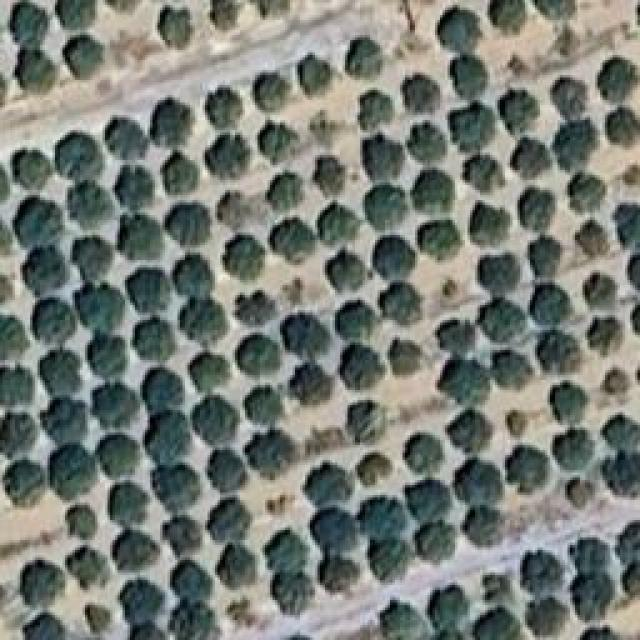Tree: (50, 443, 98, 501), (208, 540, 264, 589), (553, 120, 604, 172), (145, 410, 193, 465), (13, 198, 63, 250), (75, 282, 126, 332), (245, 430, 296, 480), (153, 462, 203, 512), (438, 360, 491, 407), (55, 134, 104, 184), (447, 103, 495, 154), (570, 570, 617, 622), (40, 397, 88, 447), (453, 458, 503, 506), (120, 580, 169, 628), (180, 298, 228, 346), (193, 395, 239, 445), (23, 245, 68, 296), (92, 383, 140, 430), (265, 523, 312, 571), (68, 180, 114, 228), (478, 297, 527, 342), (340, 343, 386, 390), (20, 560, 65, 608), (280, 315, 328, 360), (405, 480, 453, 525), (368, 534, 413, 582), (305, 463, 355, 506), (455, 508, 508, 548), (270, 218, 316, 264), (312, 505, 358, 551), (438, 8, 483, 55), (505, 445, 549, 493), (448, 410, 494, 455), (40, 350, 83, 398), (150, 98, 193, 146), (358, 498, 407, 540), (205, 135, 250, 180), (120, 215, 164, 261), (365, 185, 409, 231), (373, 235, 417, 281), (35, 298, 78, 345), (223, 235, 266, 282), (205, 495, 252, 538), (380, 600, 430, 640), (128, 267, 172, 312), (133, 317, 177, 362), (165, 203, 210, 247), (270, 570, 314, 615), (538, 330, 582, 375), (15, 48, 58, 94), (5, 460, 48, 506), (143, 368, 186, 414), (523, 553, 566, 599), (363, 135, 404, 183), (98, 435, 141, 480), (65, 545, 110, 588), (235, 335, 280, 378), (113, 530, 159, 572), (428, 585, 469, 632), (290, 363, 334, 406), (73, 238, 114, 284), (318, 203, 361, 246), (418, 220, 462, 262), (498, 90, 539, 135), (598, 58, 638, 104), (602, 450, 640, 498), (105, 118, 148, 160), (380, 283, 423, 325), (108, 484, 149, 528), (63, 35, 103, 80), (450, 55, 489, 101), (173, 255, 214, 298), (415, 520, 456, 563), (413, 170, 454, 213), (470, 203, 511, 246), (530, 283, 571, 326), (115, 166, 155, 210), (525, 598, 569, 638), (258, 123, 299, 165), (510, 138, 551, 180), (208, 450, 248, 493), (325, 250, 365, 293), (318, 552, 361, 592), (88, 334, 127, 378), (477, 253, 524, 289), (553, 430, 594, 471), (175, 600, 217, 640), (348, 400, 387, 443), (0, 414, 38, 458), (190, 354, 231, 394), (163, 515, 203, 556), (335, 300, 375, 341), (550, 383, 589, 425), (162, 153, 200, 196), (205, 88, 243, 131), (463, 155, 506, 193), (13, 2, 49, 47), (520, 187, 556, 232), (405, 434, 445, 474), (603, 408, 640, 451), (553, 77, 589, 121), (568, 172, 607, 212), (472, 607, 519, 640), (245, 387, 283, 427), (407, 123, 445, 163), (435, 320, 475, 358), (252, 72, 290, 111), (358, 90, 394, 131), (570, 538, 611, 574), (168, 568, 214, 600), (560, 478, 599, 515), (15, 150, 51, 190), (235, 290, 275, 326), (268, 172, 304, 212), (345, 37, 381, 77), (605, 108, 640, 149), (298, 55, 332, 97), (530, 235, 563, 278), (495, 353, 533, 390), (158, 8, 191, 50), (0, 368, 34, 408), (0, 315, 29, 361), (313, 157, 346, 197), (218, 193, 252, 231), (575, 220, 609, 258), (590, 318, 624, 356), (483, 570, 518, 606), (405, 75, 437, 113), (23, 612, 66, 640), (83, 600, 113, 640), (585, 273, 619, 308), (358, 453, 393, 486), (615, 205, 640, 250), (57, 0, 95, 29), (65, 505, 96, 540), (615, 523, 640, 566), (393, 340, 422, 377), (493, 0, 525, 33), (600, 370, 634, 398), (210, 0, 239, 31), (617, 152, 640, 189), (257, 0, 292, 24), (532, 0, 574, 19), (435, 278, 463, 304), (622, 252, 640, 290), (620, 563, 640, 592), (508, 408, 525, 436), (632, 302, 640, 339)
